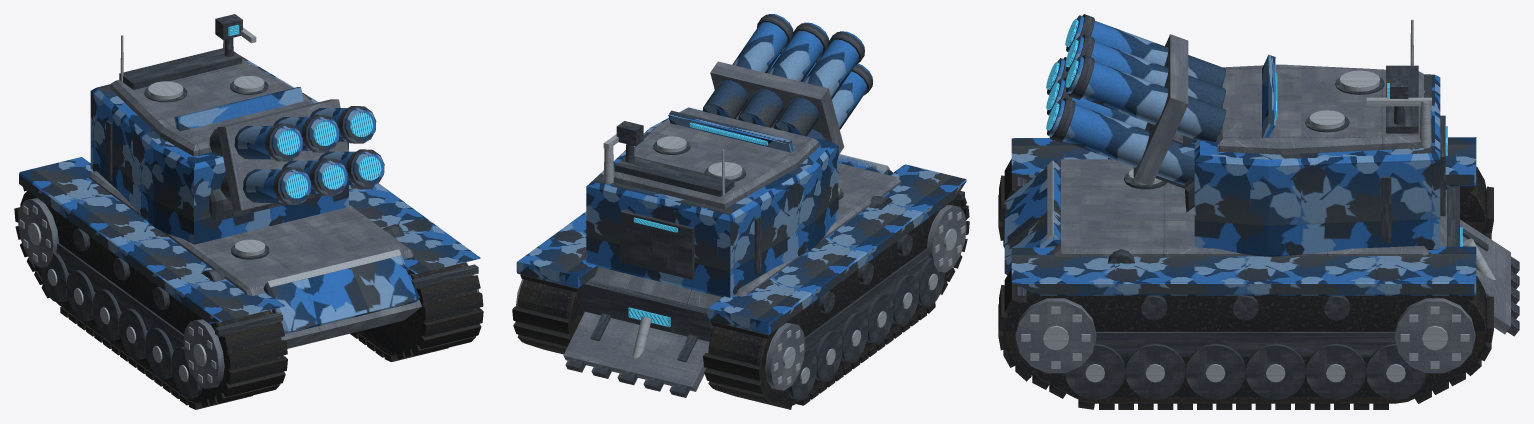
The model's file is kestrel-bombard-artillery.glb.
3 views of the same model, side by side, from view 1: azimuth 30°, elevation 25°; view 2: azimuth 150°, elevation 25°; view 3: azimuth 270°, elevation 25° (orthographic). The views are drawn at different scales.
Visible parts, largest first — view 1: fender, rear_drive, suspension_beam, track_belt, wheel_hub_0, bow_glow; view 2: fender, rear_drive, suspension_beam, track_belt, wheel_hub_0, bow_glow; view 3: fender, rear_drive, suspension_beam, track_belt, wheel_hub_0, bow_glow.
Part boxes in pixels (x1,y1,x2,y2): fender: (19,54,480,334); rear_drive: (18,59,479,388); suspension_beam: (40,14,478,398); track_belt: (14,187,483,409); wheel_hub_0: (19,27,401,383); bow_glow: (206,24,381,278); fender: (516,14,966,334); rear_drive: (516,61,966,391); suspension_beam: (565,14,964,400); track_belt: (512,197,969,409); wheel_hub_0: (603,134,965,385); bow_glow: (628,122,888,327); fender: (1004,15,1476,295); rear_drive: (1015,34,1510,373); suspension_beam: (1017,14,1519,399); track_belt: (998,159,1493,409); wheel_hub_0: (1021,19,1495,382); bow_glow: (1046,19,1462,264).
Size of the model in its own units: 5.38 by 5.11 by 7.98.
Materials: 6 (6 with a texture image).
